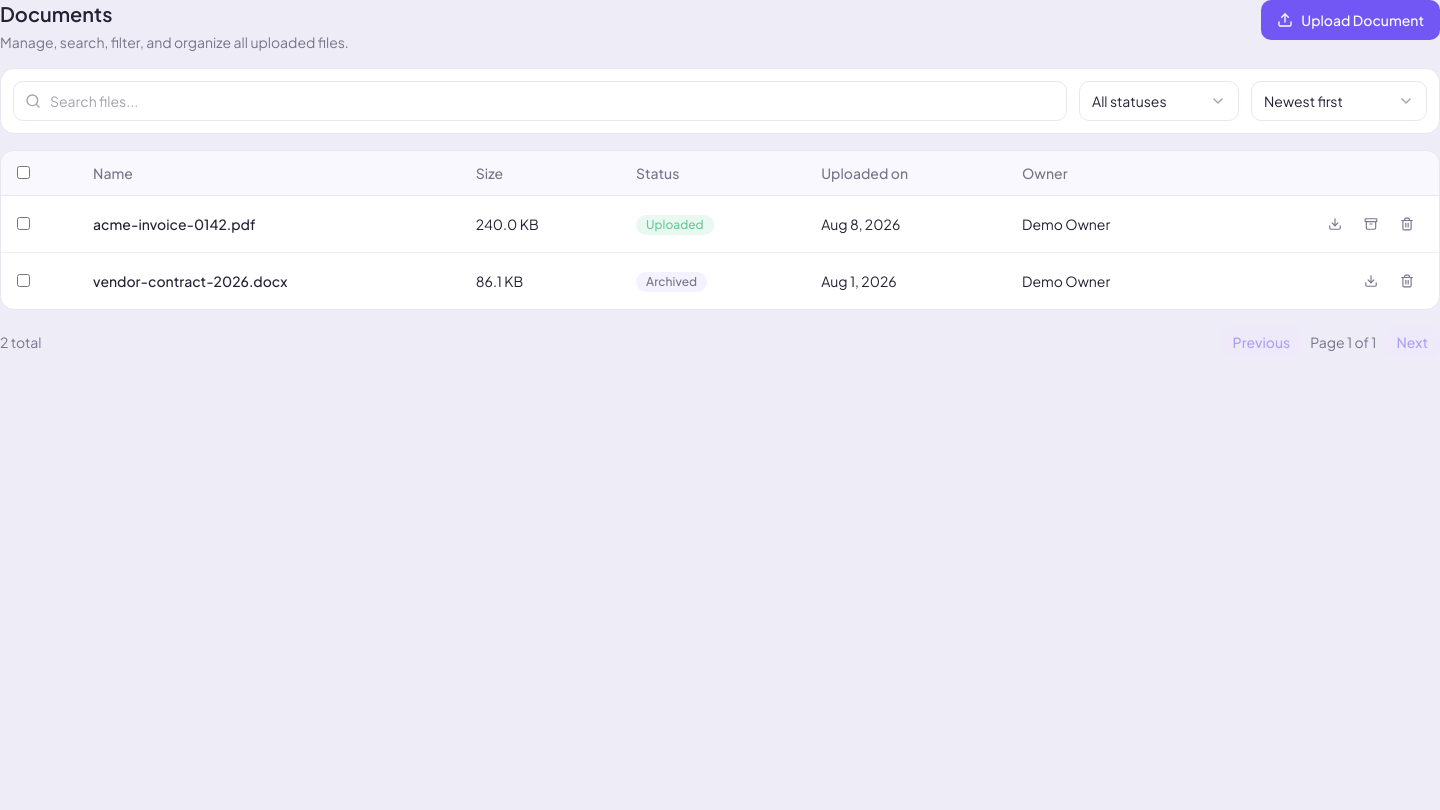
Scenario: DocumentsPage — selection and bulk actions › shows a bulk action bar once rows are selected and archives them
This screenshot has width=1440, height=810.
Expected: the text "acme-invoice-0142.pdf" is shown, x1=77 y1=196 x2=460 y2=252
Click the checkbox named "select acme-invoice-0142.pdf" at [24, 224], box x1=17 y1=217 x2=30 y2=230
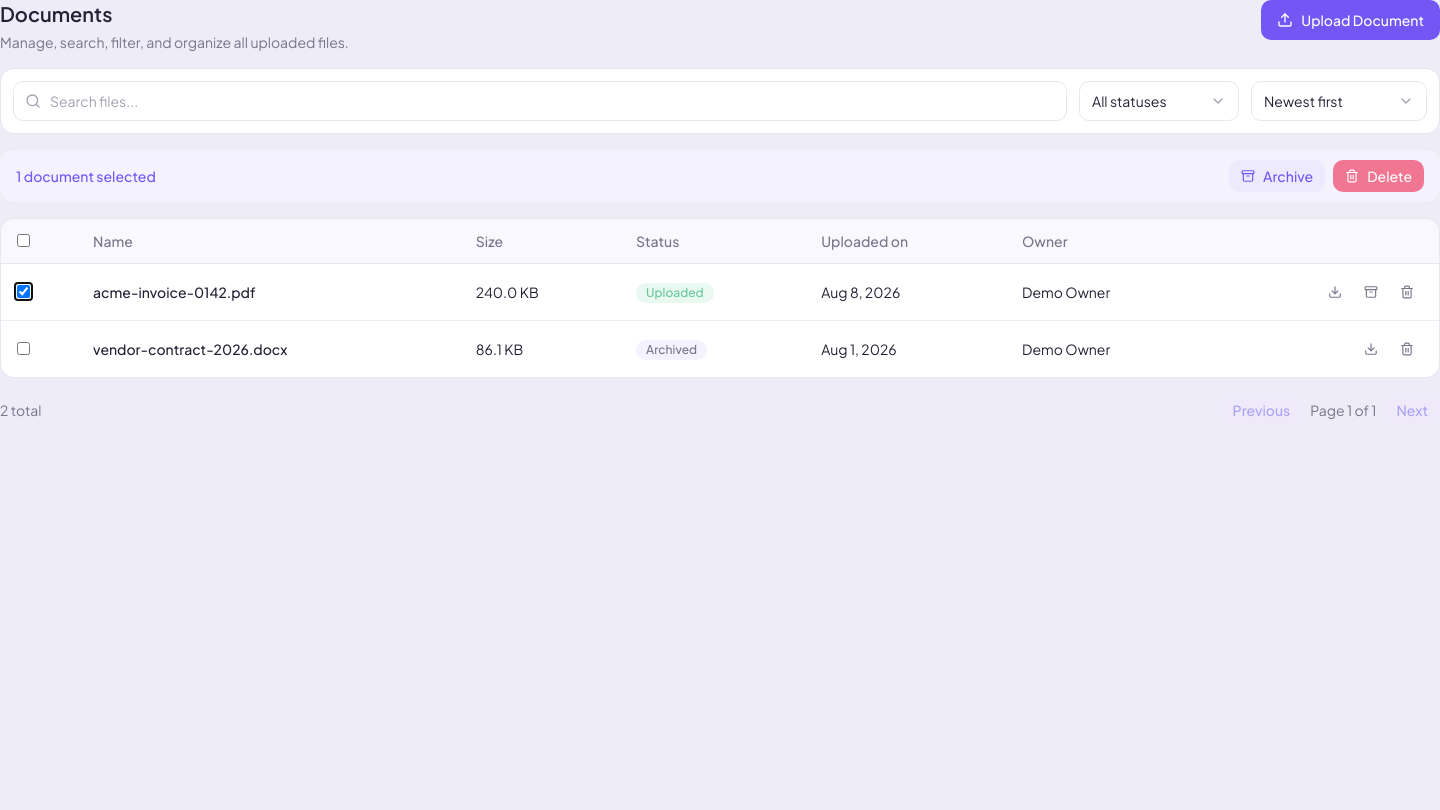
Now the text "1 document selected" is shown, box x1=16 y1=166 x2=156 y2=186
Click the button "Archive" at [1277, 176], box x1=1229 y1=160 x2=1325 y2=192
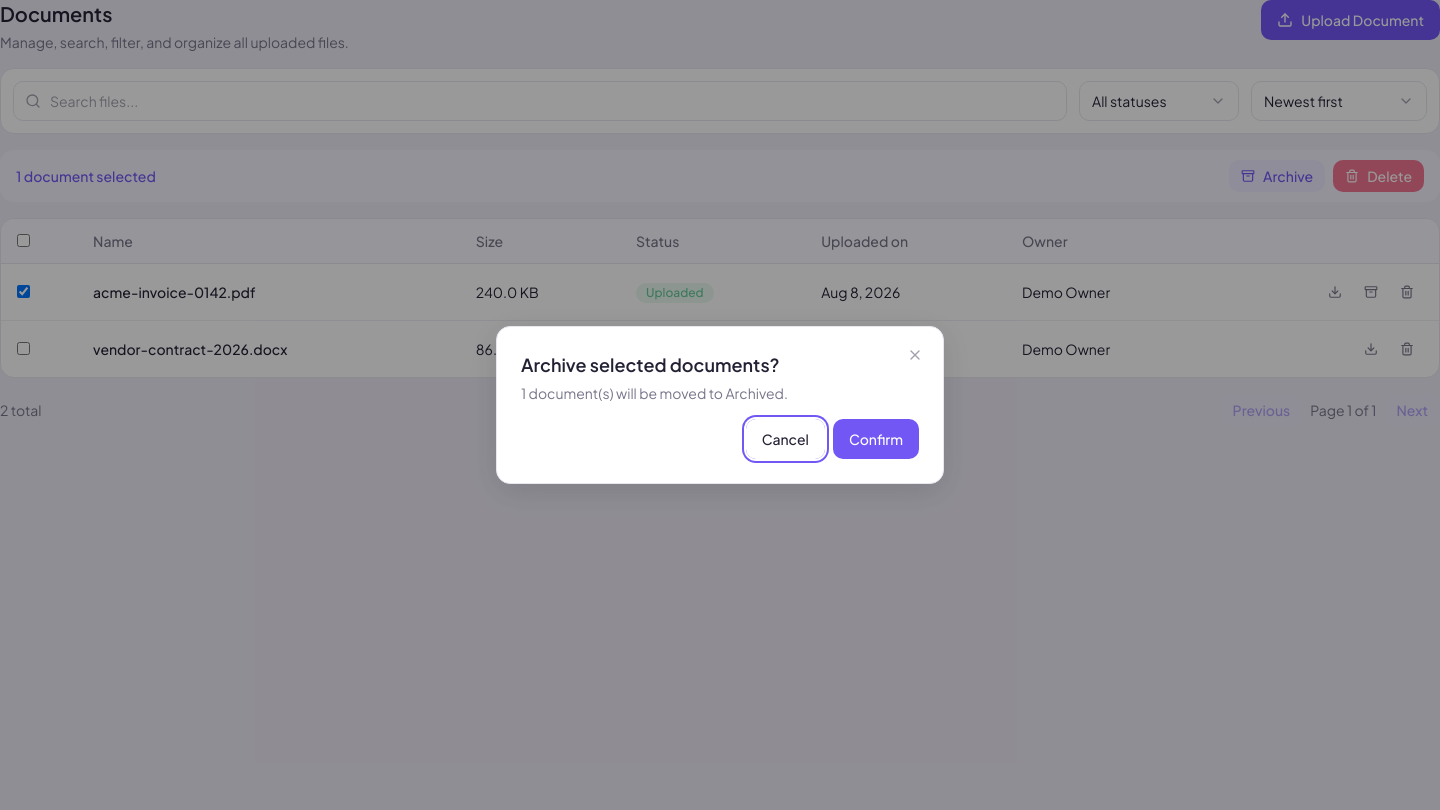
Click the button "Confirm" at [876, 439], box x1=833 y1=419 x2=919 y2=459
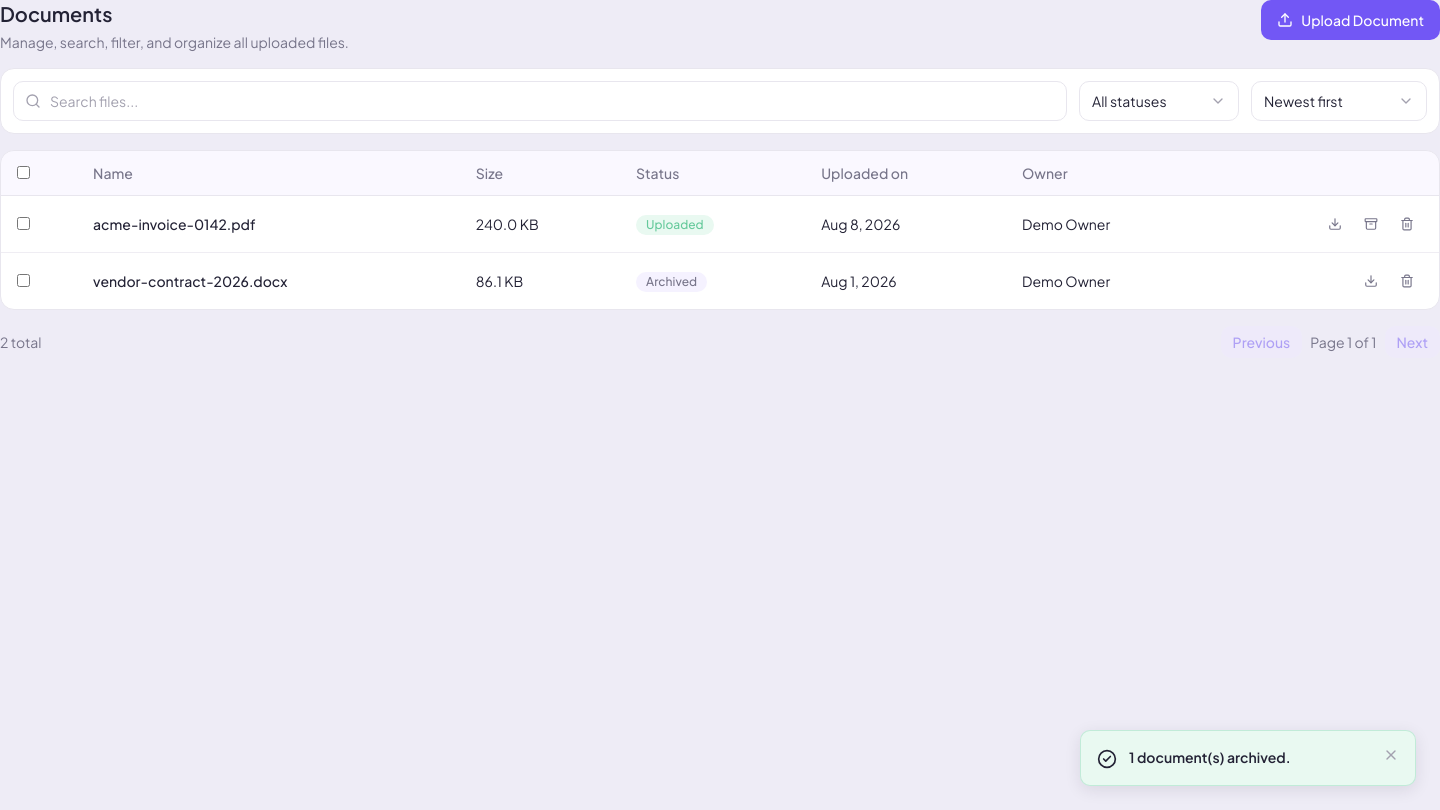
Now the text "1 document selected" is gone
